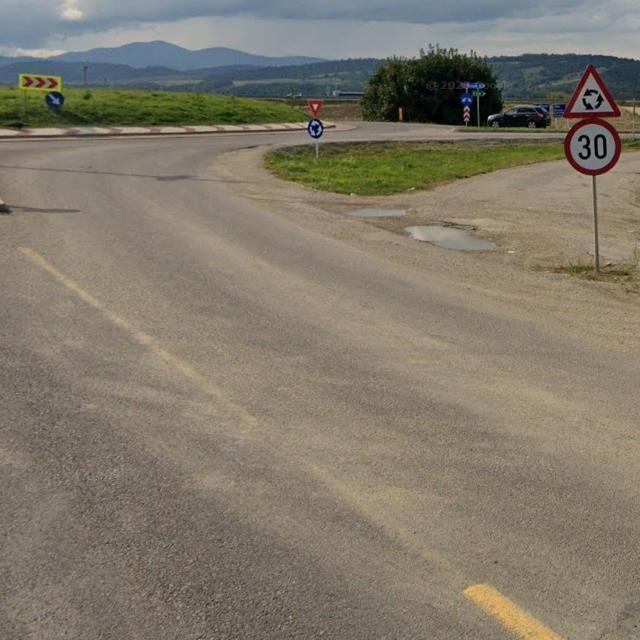forb_speed_over_30: (564, 120, 623, 175)
prio_give_way: (308, 101, 324, 117)
